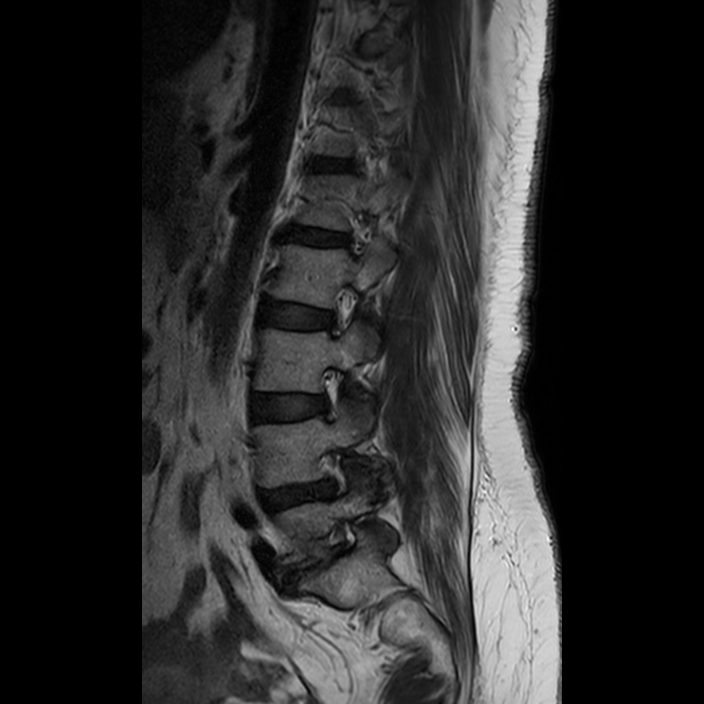LFS0: (307, 355, 371, 432), (318, 274, 380, 346), (308, 444, 370, 507)
